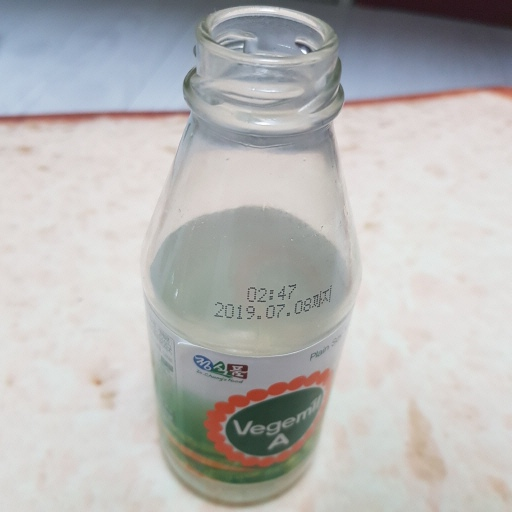Glass_4: (131, 2, 364, 502)
